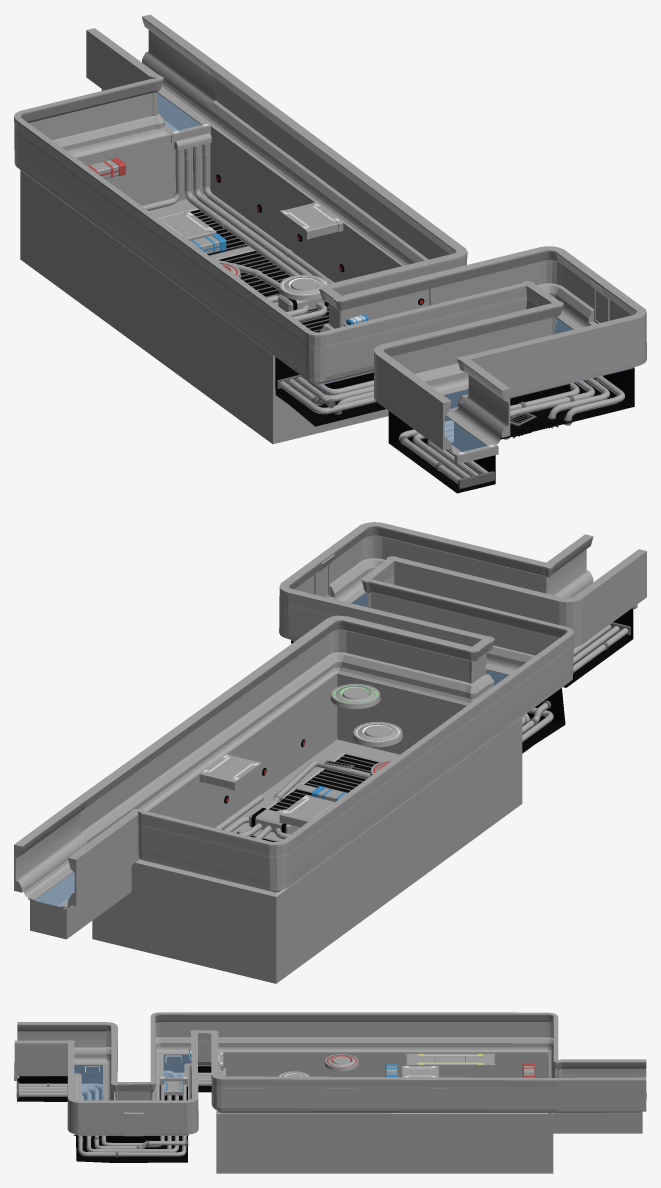
File: Map_NEW.fbx
3 renders of one model, top to bottom at view 1: azimuth 30°, elevation 25°; view 2: azimuth 150°, elevation 25°; view 3: azimuth 270°, elevation 25°, orthographic. The views are drawn at different scales.
Parts seen in each view (by area): view 1: pCube193, pCube8, pCube195, pCube70, pTorus44, polySurface28, pTorus63, pCube46, pCube37, pCube12, pCylinder14, polySurface23 (+2 smaller); view 2: pCube8, pCube193, pCube195, polySurface28, pCube84, pCube70, pTorus44, pCube37, pCylinder14, pCylinder16, pCube12, pTorus66 (+2 smaller); view 3: pCube8, pCube195, pCube193, polySurface28, pCube70, pTorus44, pCube46, pCube84, pCube45, pCube22, pCylinder15, pCube30 (+2 smaller).
Part boxes in pixels (x1,y1,x2,y2): pCube193: (14, 28, 563, 450); pCube8: (20, 126, 401, 444); pCube195: (142, 14, 646, 437); pCube70: (275, 317, 634, 493); pTorus44: (279, 376, 624, 483); polySurface28: (66, 80, 631, 454); pTorus63: (142, 154, 333, 289); pCube46: (317, 314, 633, 453); pCube37: (279, 202, 343, 239); pCube12: (156, 88, 208, 132); pCylinder14: (278, 274, 328, 300); polySurface23: (277, 374, 603, 488); pCube8: (92, 673, 522, 983); pCube193: (68, 549, 646, 905); pCube195: (14, 522, 593, 892); polySurface28: (24, 573, 521, 909); pCube84: (30, 866, 131, 939); pCube70: (291, 593, 633, 753); pTorus44: (522, 624, 628, 742); pCube37: (199, 754, 262, 790); pCylinder14: (352, 722, 402, 747); pCylinder16: (330, 683, 380, 708); pCube12: (28, 867, 74, 907); pTorus66: (274, 760, 370, 839); pCube8: (216, 1052, 553, 1173); pCube195: (14, 1030, 646, 1136); pCube193: (17, 1012, 646, 1100); polySurface28: (16, 1045, 646, 1135); pCube70: (17, 1055, 211, 1162); pTorus44: (19, 1071, 211, 1156); pCube46: (17, 1052, 219, 1135); pCube84: (553, 1113, 642, 1133); pCube45: (406, 1055, 494, 1063); pCube22: (405, 1063, 494, 1070); pCylinder15: (324, 1054, 358, 1071); pCube30: (401, 1067, 438, 1076).
Size of the model in its own units: 44.54 by 21.9 by 129.
